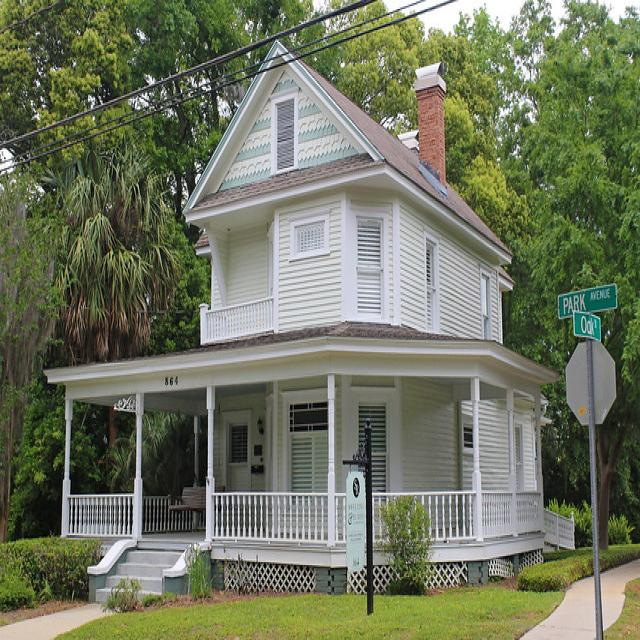Normal_building: (40, 38, 563, 598)
